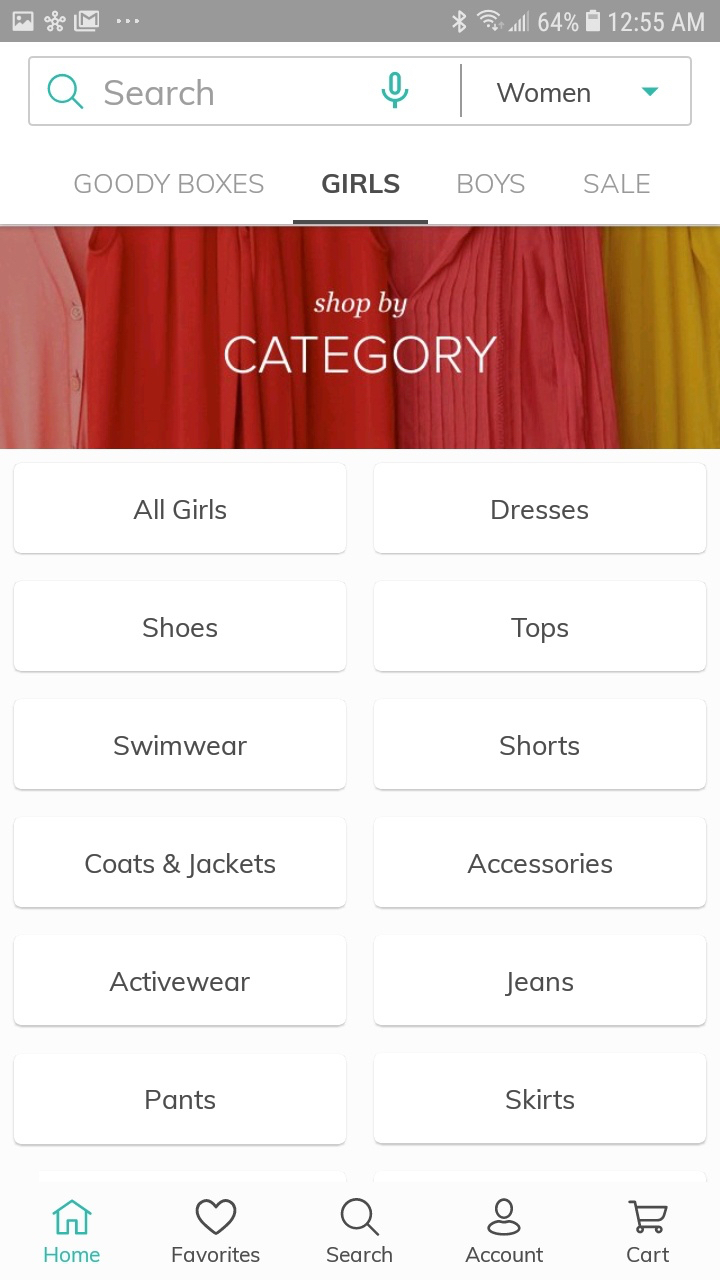EditText: (28, 57, 692, 127)
Icon: (341, 1198, 381, 1237), (196, 1199, 238, 1236), (52, 1198, 93, 1235), (628, 1200, 669, 1234), (486, 1197, 521, 1236), (48, 75, 85, 111), (382, 73, 410, 110), (641, 87, 659, 97)
Image: (1, 227, 720, 450)
Text: (224, 335, 498, 375), (75, 174, 265, 194), (105, 80, 214, 106), (314, 291, 408, 320), (497, 83, 590, 103), (173, 1246, 261, 1263), (323, 175, 401, 194), (458, 175, 525, 194), (465, 1247, 544, 1263), (584, 175, 650, 194), (327, 1246, 393, 1263), (45, 1247, 101, 1263), (627, 1247, 670, 1263)
TextButton: (13, 1052, 349, 1146), (373, 816, 708, 910), (13, 933, 348, 1027), (13, 815, 348, 909), (373, 1052, 708, 1145), (373, 462, 708, 555), (373, 580, 708, 673), (373, 934, 708, 1027), (13, 697, 348, 790), (13, 580, 348, 673), (14, 462, 348, 555), (373, 699, 708, 791)
UpperTaskBar: (1, 1, 720, 43)
